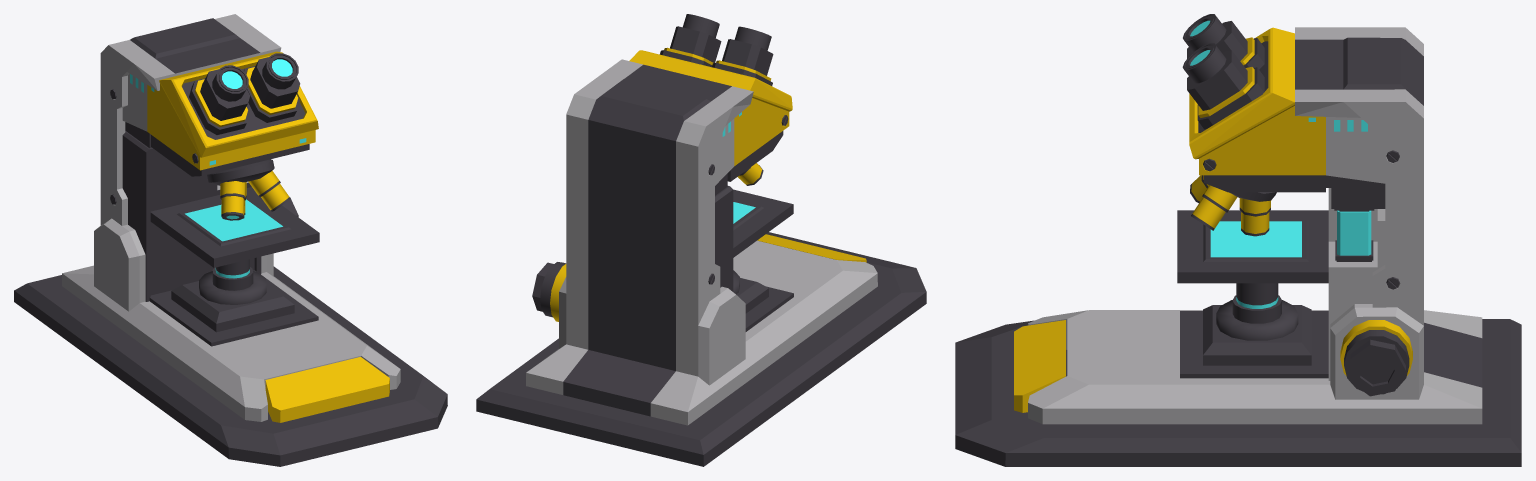
The model's file is SM_Props_Laboratory_06.fbx.
3 views of the same model, side by side, from view 1: azimuth 30°, elevation 25°; view 2: azimuth 150°, elevation 25°; view 3: azimuth 270°, elevation 25° (orthographic). The views are drawn at different scales.
Parts seen in each view (by area): view 1: SM_Props_Laboratory_06; view 2: SM_Props_Laboratory_06; view 3: SM_Props_Laboratory_06.
Part boxes in pixels (left/top/right/bottom): SM_Props_Laboratory_06: left=14, top=14, right=447, bottom=466; SM_Props_Laboratory_06: left=476, top=14, right=926, bottom=466; SM_Props_Laboratory_06: left=955, top=14, right=1521, bottom=466.
Size of the model in its own units: 0.384 by 0.5176 by 0.7155.
